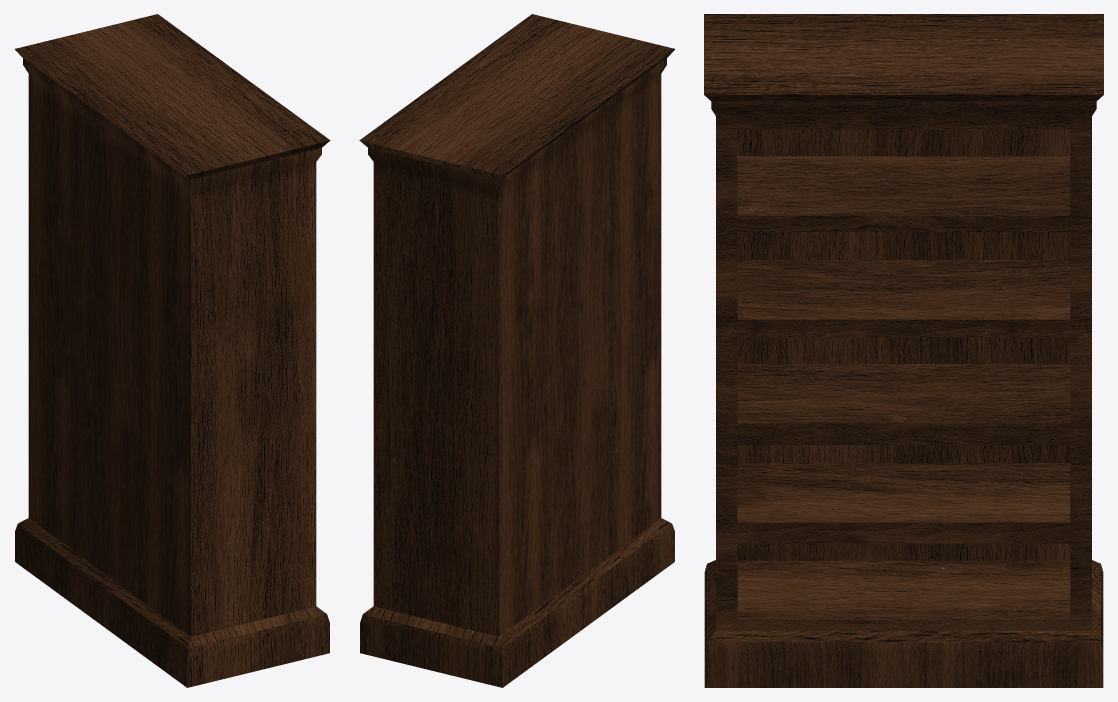
File: estante.fbx
The picture shows the model from 3 angles, left to right: view 1: azimuth 30°, elevation 25°; view 2: azimuth 150°, elevation 25°; view 3: azimuth 270°, elevation 25°; orthographic projection. The views are drawn at different scales.
Parts seen in each view (by area): view 1: estate; view 2: estate; view 3: estate.
Part boxes in pixels (bbox=[...]): estate: bbox=[15, 14, 330, 687]; estate: bbox=[359, 14, 674, 687]; estate: bbox=[704, 14, 1103, 687].
Bounding box in the file's own units: 1.56 × 5.34 × 3.26.
Materials: 1 (1 with a texture image).
